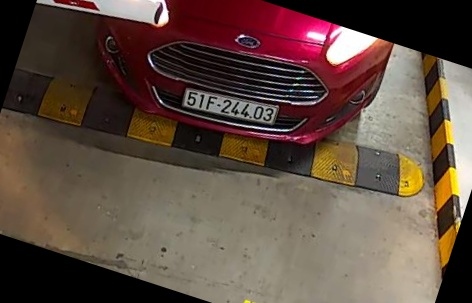plate: (178, 83, 284, 134)
